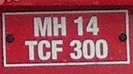0: (95, 38, 109, 60), (82, 40, 96, 60)
1: (73, 16, 85, 36)
3: (68, 39, 82, 60)
4: (86, 16, 101, 36)
C: (37, 39, 52, 60)
F: (51, 39, 64, 62)
H: (52, 16, 68, 37)
M: (32, 16, 54, 37)
T: (24, 40, 39, 61)
